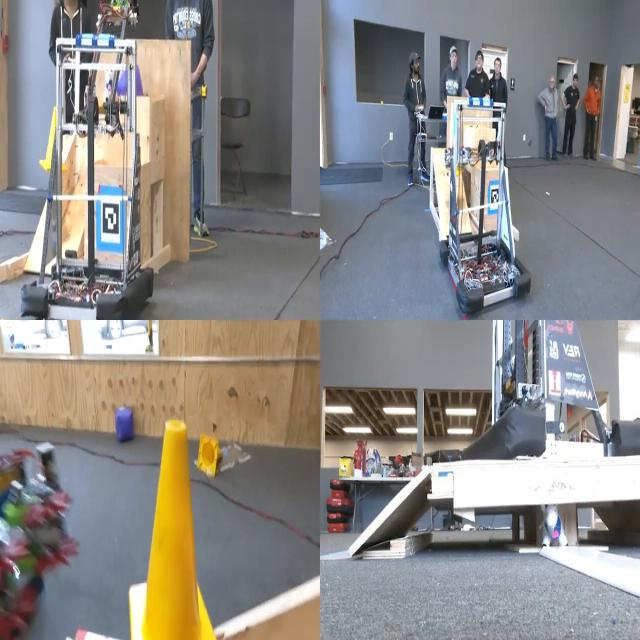frc_cone: (147, 414, 199, 640), (38, 104, 62, 174), (194, 436, 224, 476)
frc_cube: (111, 409, 136, 447)
